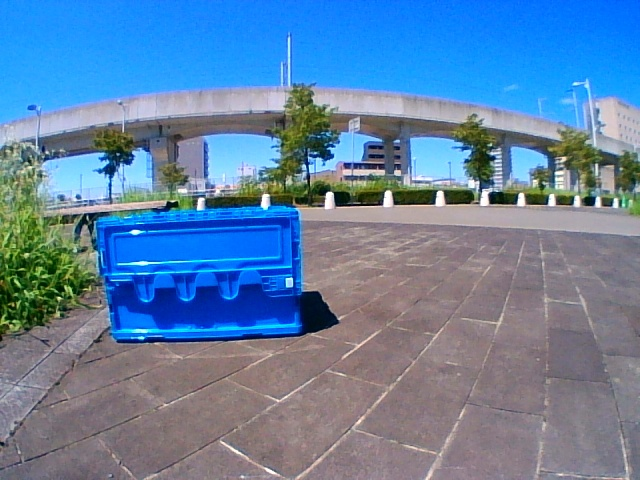blue_box: (115, 217, 298, 334)
